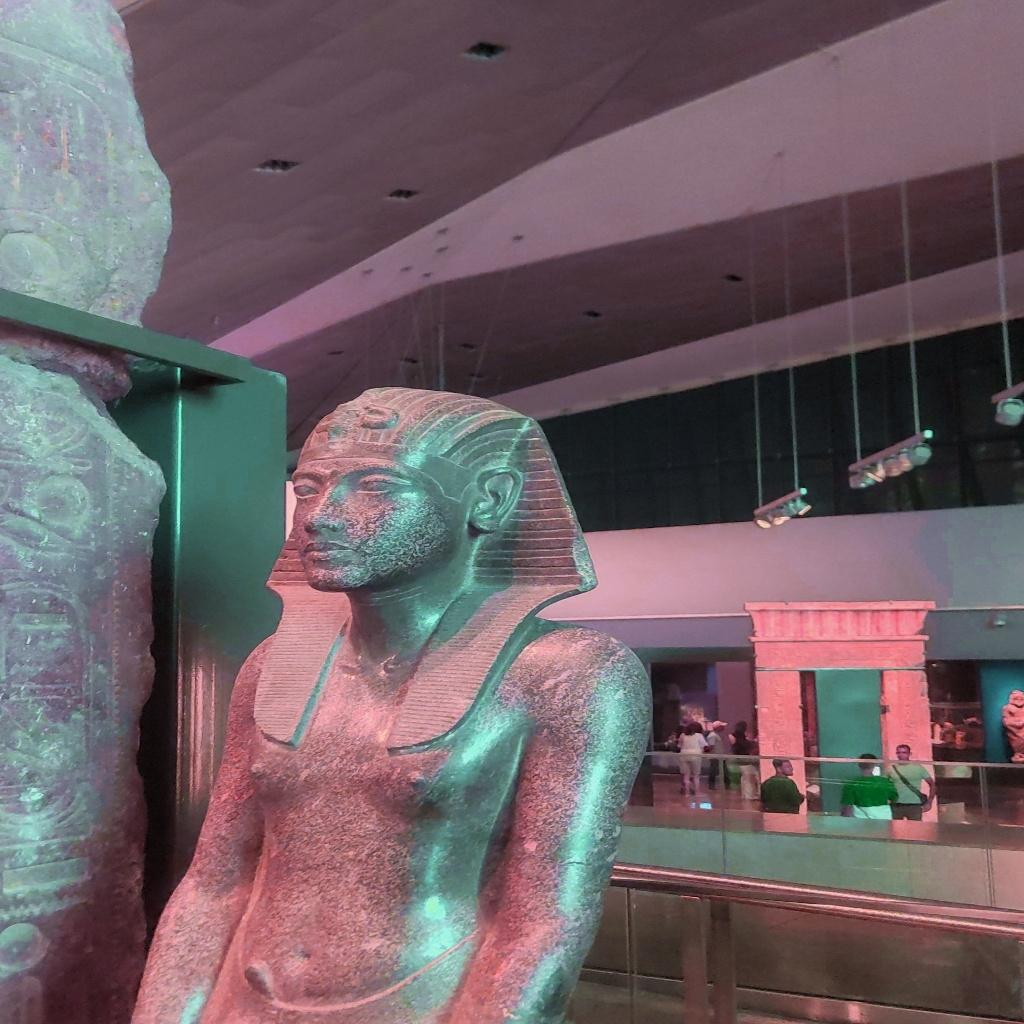Granite Statue of Tutankhamun: (128, 382, 657, 1020)
